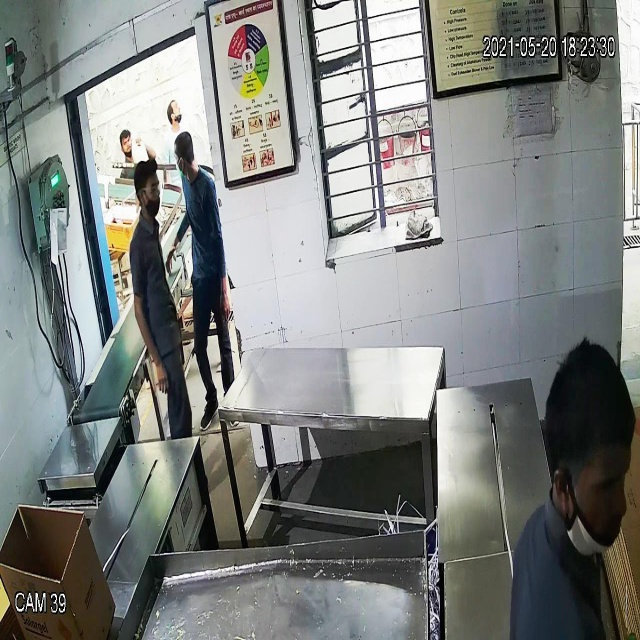Gafas: (133, 180, 165, 203)
